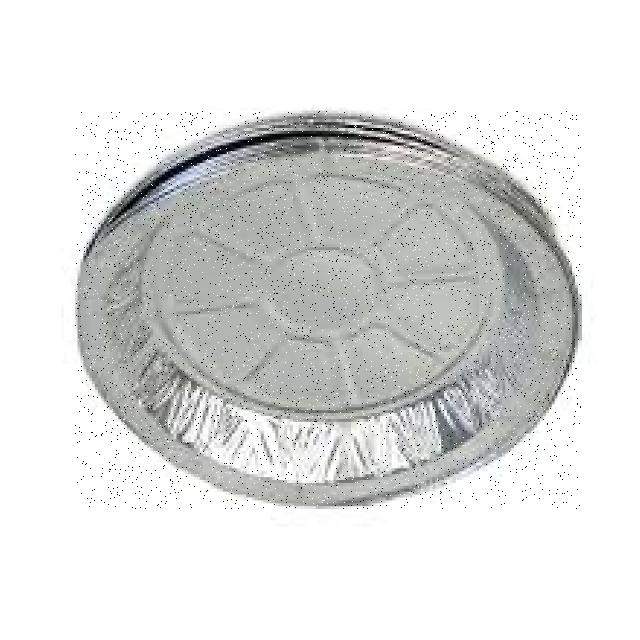metal: (75, 111, 581, 509)
